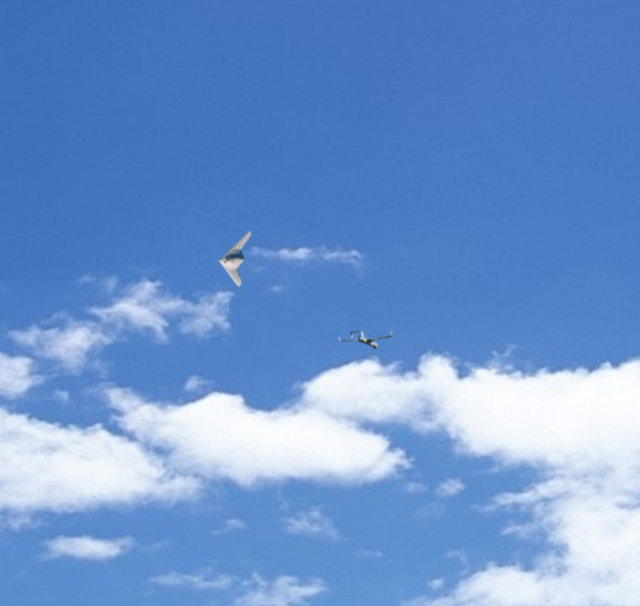military drone: (217, 229, 251, 287), (337, 330, 393, 349)
